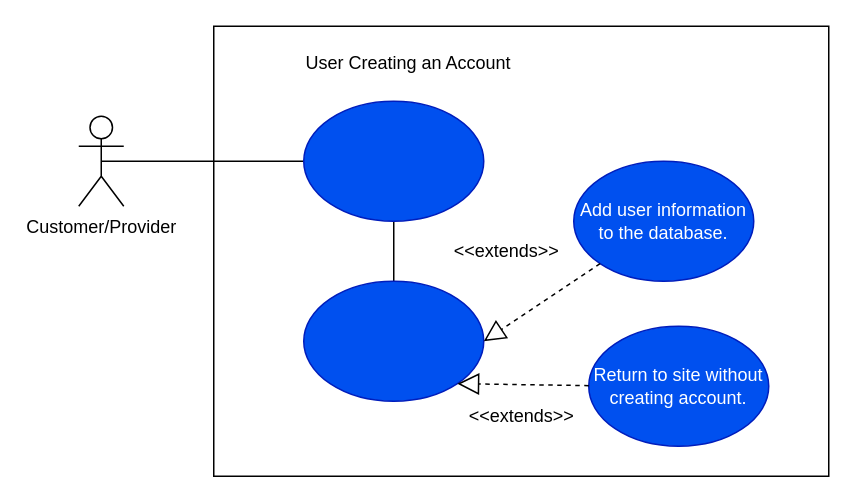
Image size: 855x503. Some labels were removed from this diagram. Here are the shapes that lost their labels. From the top down, the centre of each, then its label:
At point (393, 160): "Request to Create Account.".
At point (393, 340): "Ask user for account details.".
